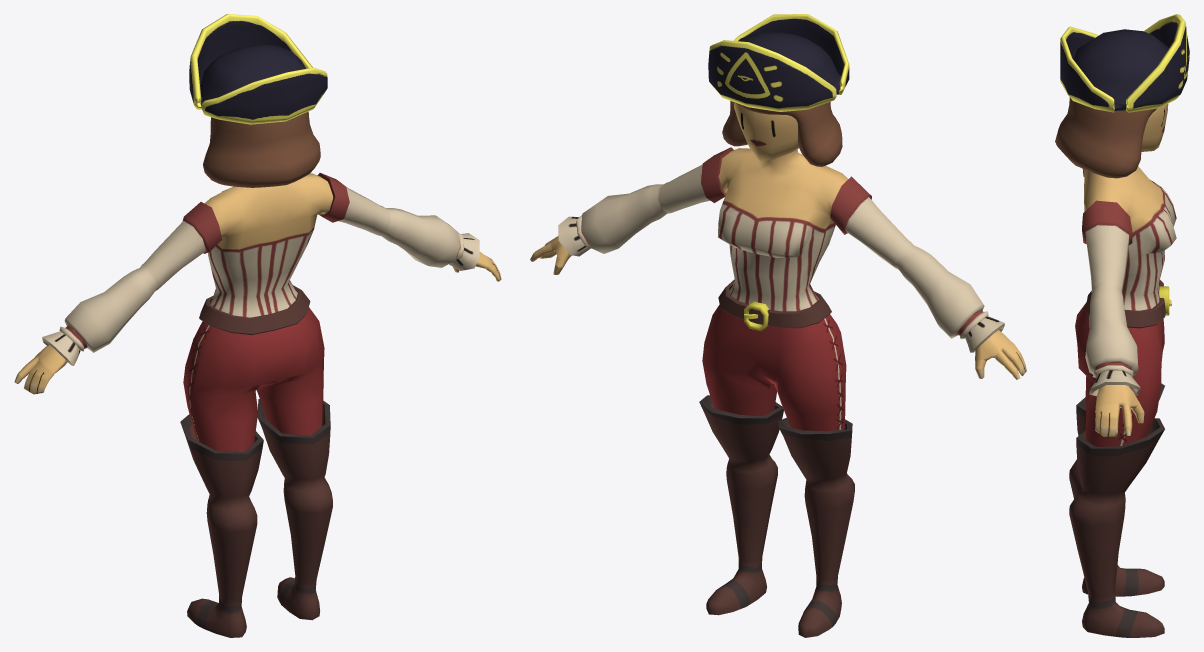
Rendered from rig_char_57.fbx.
3 renders of one model, left to right at view 1: azimuth 30°, elevation 25°; view 2: azimuth 150°, elevation 25°; view 3: azimuth 270°, elevation 25°, orthographic.
Visible parts, largest first — view 1: mesh_char_110; view 2: mesh_char_110; view 3: mesh_char_110.
Part boxes in pixels (x1,y1,x2,y2): mesh_char_110: (14, 14, 501, 637); mesh_char_110: (530, 14, 1026, 637); mesh_char_110: (1055, 14, 1189, 637).
Bounding box in the file's own units: 8.53 × 9.83 × 2.04.
Materials: 1 (1 with a texture image).
